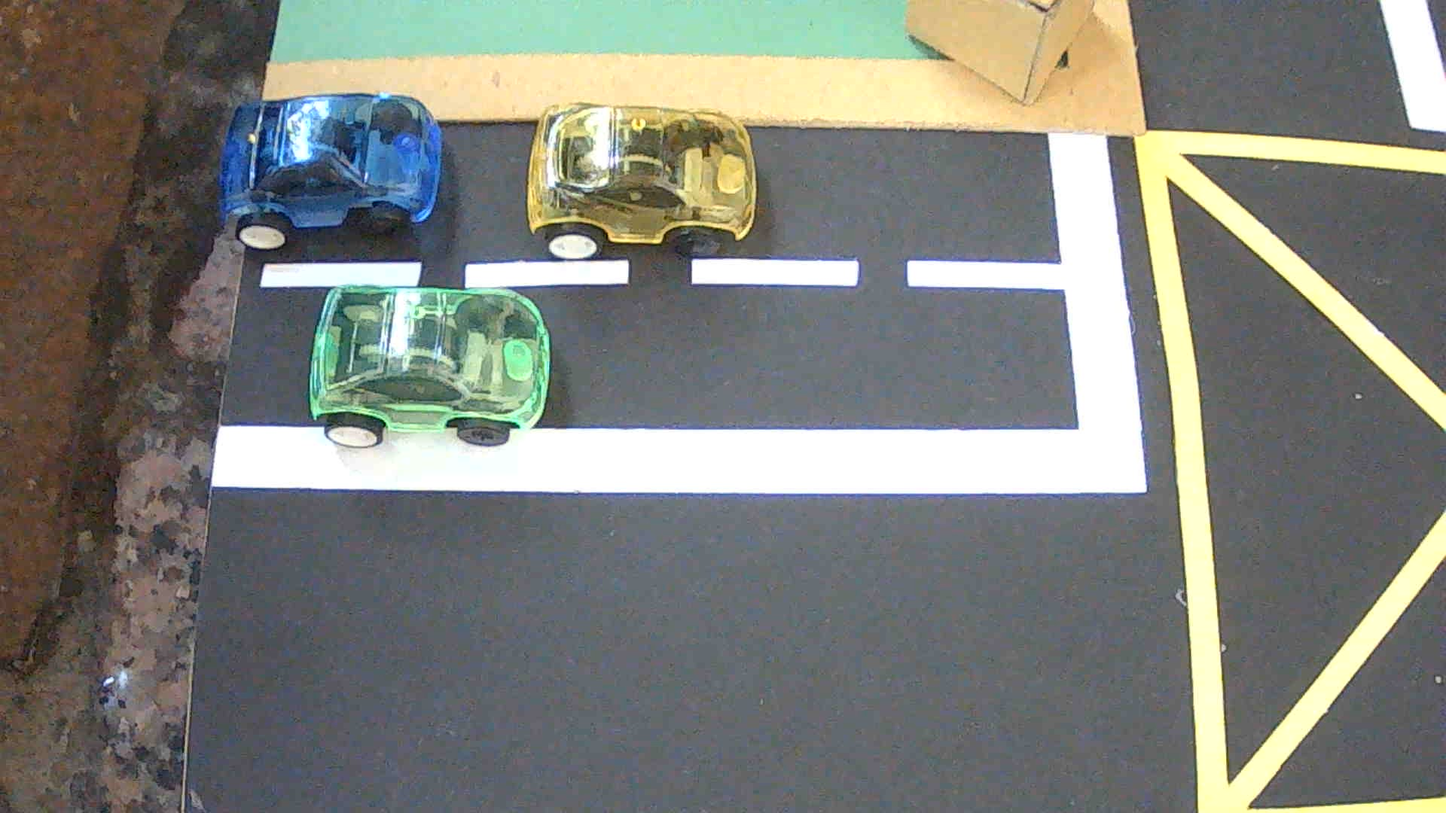Mobil biru: (218, 94, 442, 250)
Mobil hijau: (310, 286, 550, 448)
Mobil kuning: (526, 103, 758, 258)
